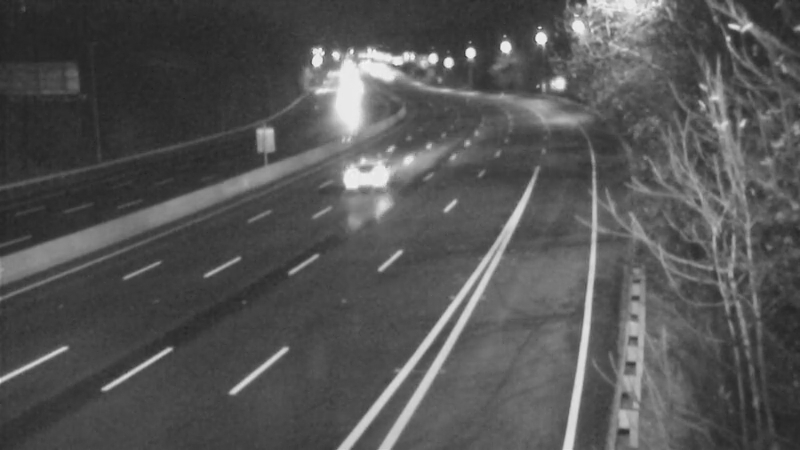vehicle: (336, 135, 416, 215)
